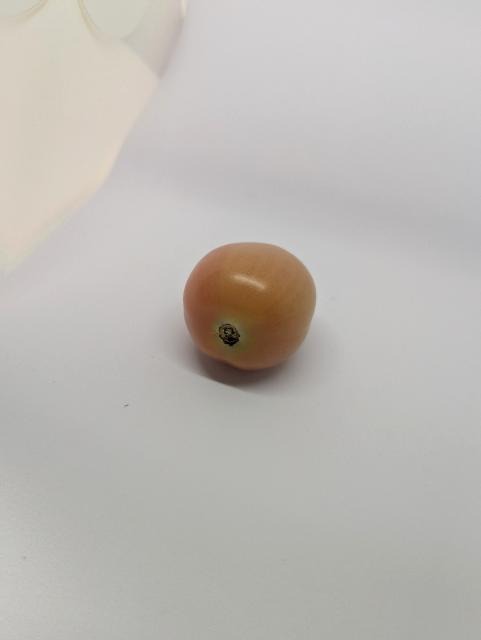turning: (176, 240, 336, 384)
